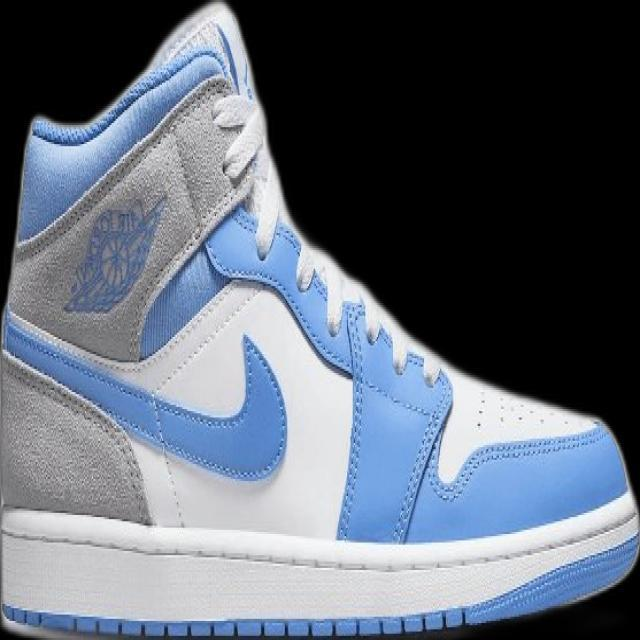J1_InsoleChar: (0, 0, 638, 639)
J1_ShoeLogo: (62, 191, 169, 314)
J1_StitchPattern: (23, 72, 268, 356), (1, 503, 638, 578), (0, 346, 154, 525), (289, 245, 444, 390), (3, 605, 467, 639), (149, 278, 264, 396), (209, 86, 283, 257), (387, 365, 454, 545), (334, 297, 371, 542)
